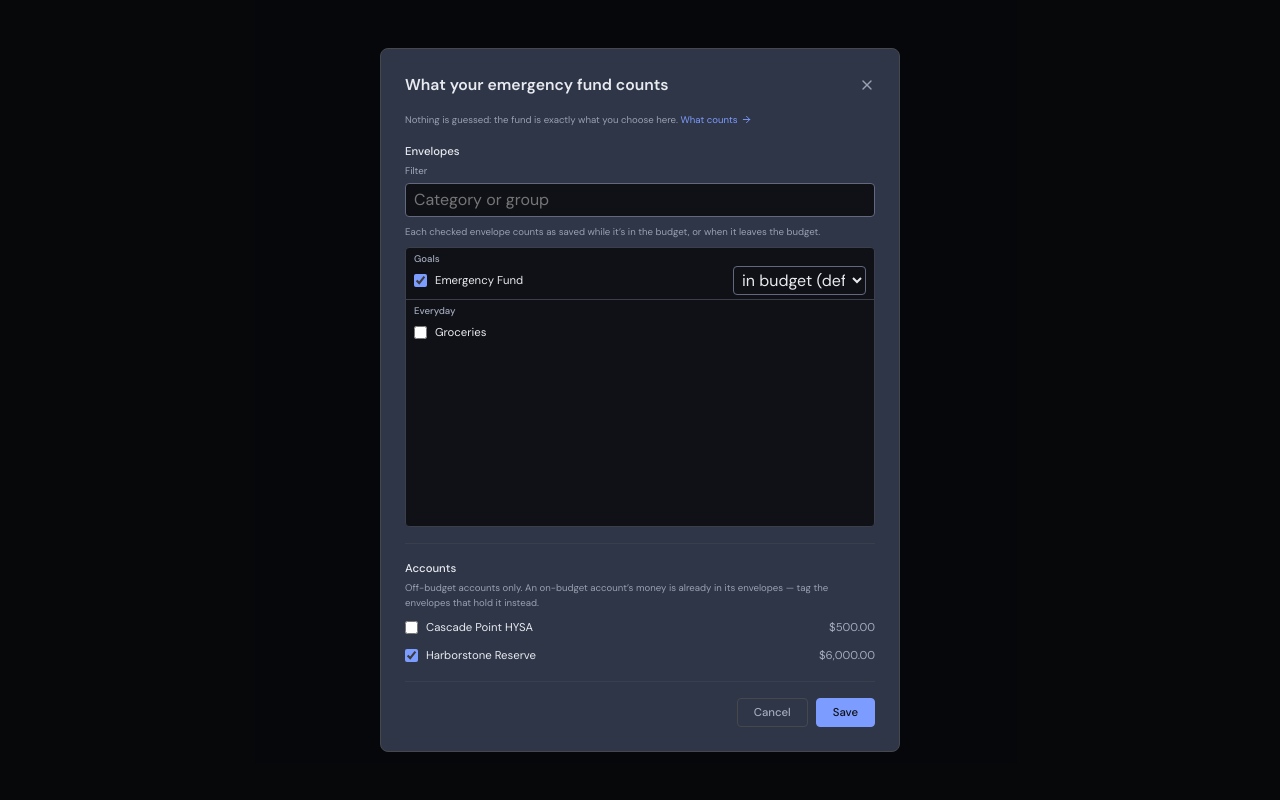
Test: EmergencyFundPicker › says a chosen account will also count as savings
Check: the text "Also turns on Counts as savings" is not shown
Click the checkbox labelled "Cascade Point HYSA $500.00".
click(412, 628)  # box [405,621,418,634]
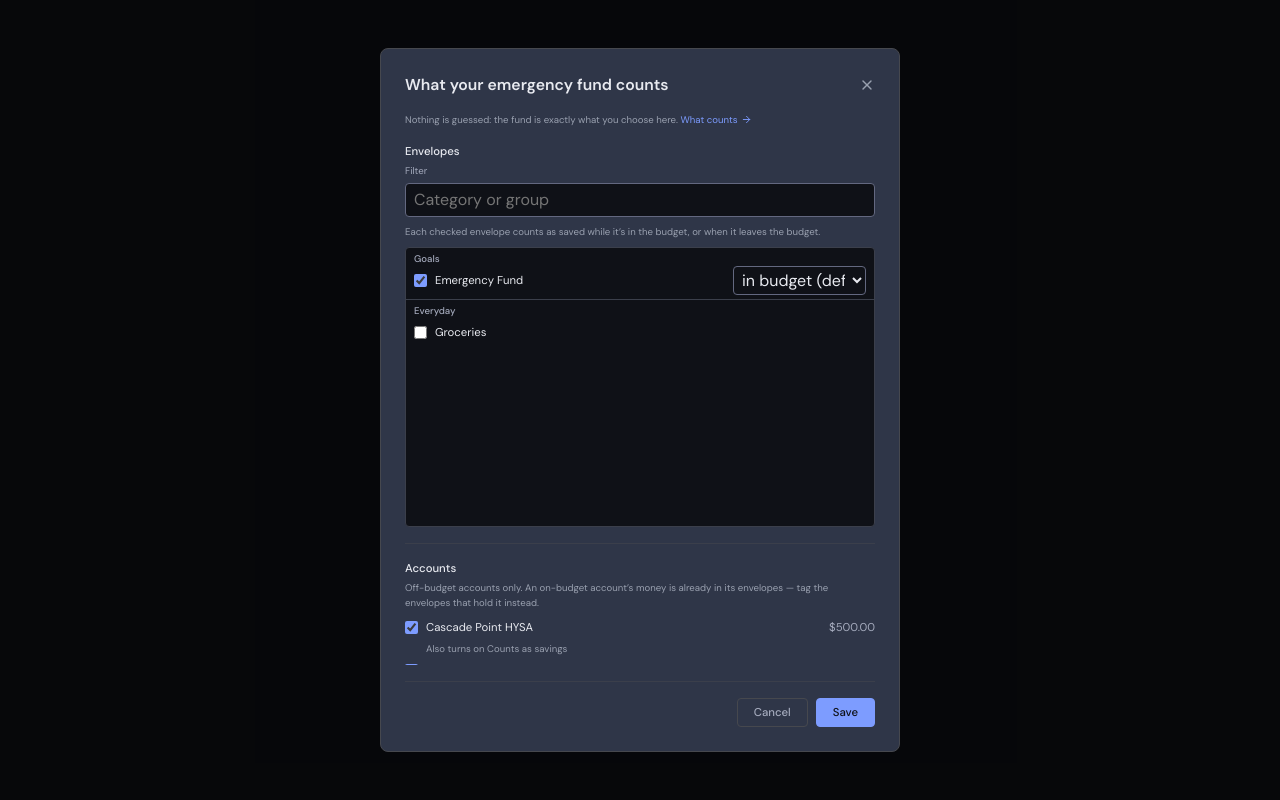
Check: the text "Also turns on Counts as savings" is shown, box [426,642,567,655]
